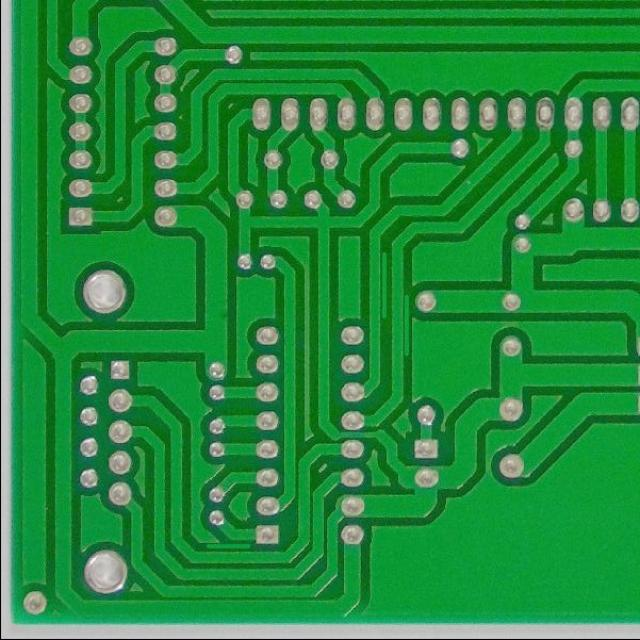Spurious_Cooper: (378, 246, 392, 323), (202, 538, 252, 550)
